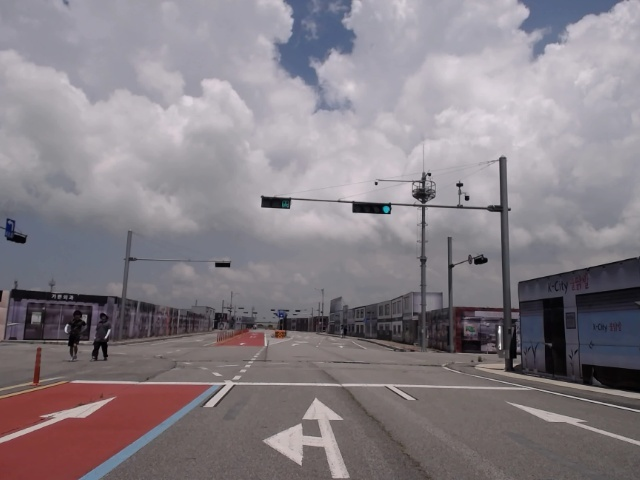straight_green_4: (353, 201, 392, 216)
